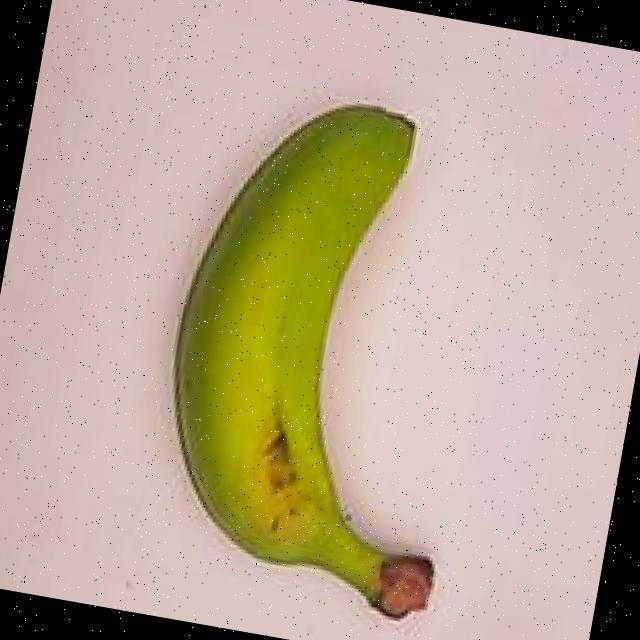Unripe: (75, 35, 551, 640)
